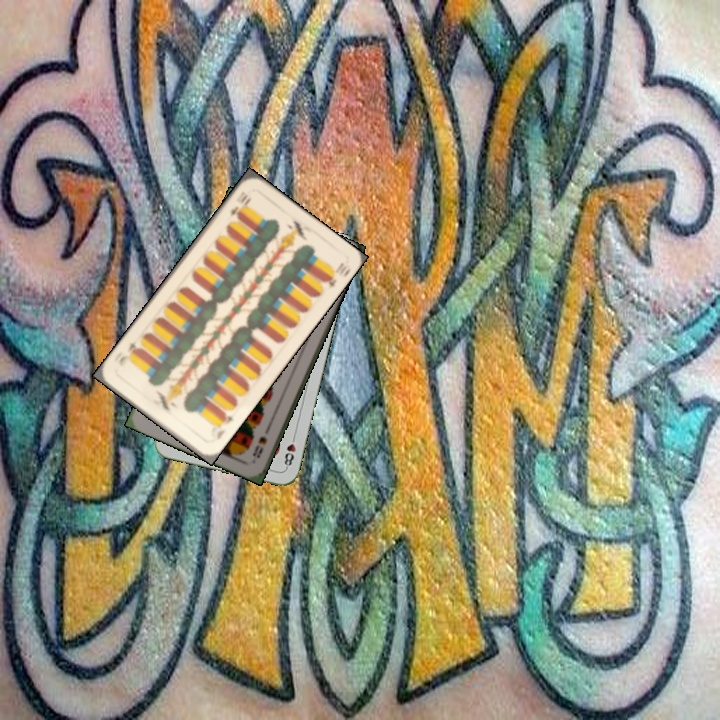E10: (226, 189, 253, 220), (212, 408, 236, 442)
H8: (280, 431, 298, 471)
S8: (248, 432, 270, 460)
